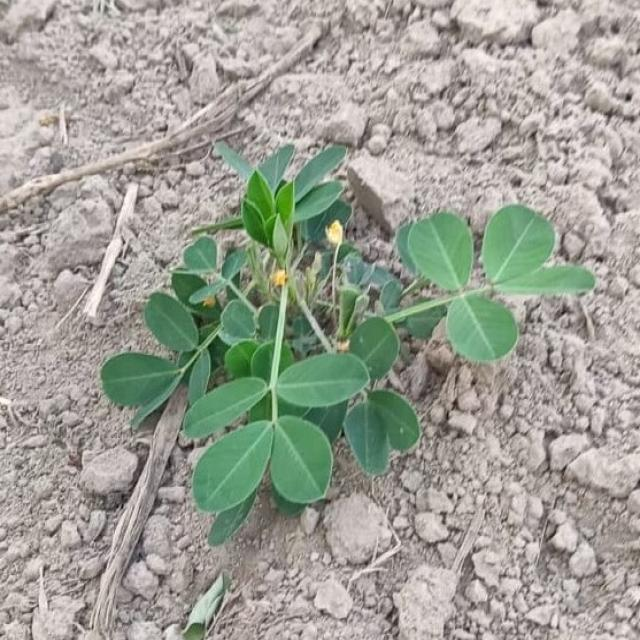plant: (100, 142, 595, 545)
